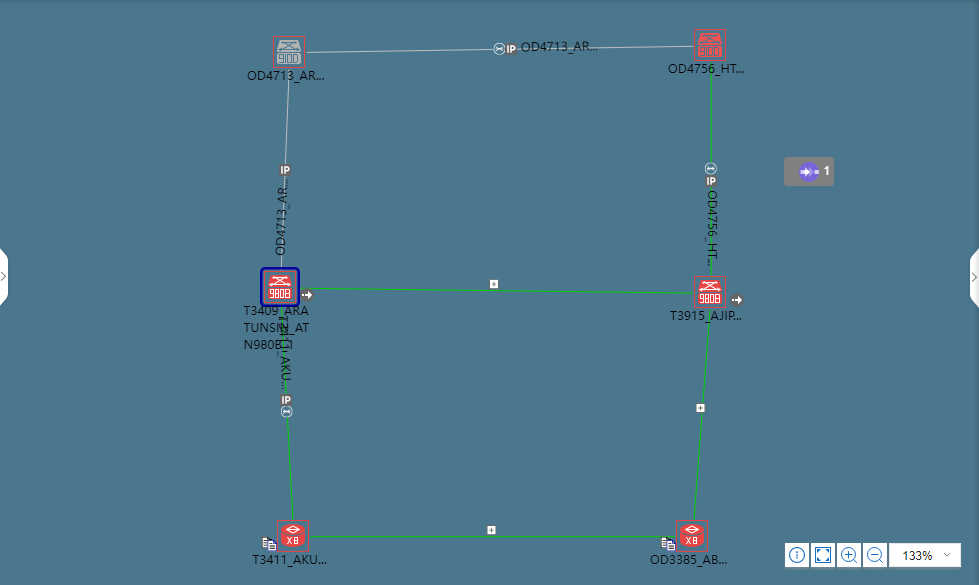ATN_Gray: (278, 39, 301, 68)
ATN_Red: (266, 271, 294, 306), (694, 277, 724, 306), (694, 32, 722, 62)
Link_Gray: (278, 69, 295, 251), (327, 45, 583, 52)
Link_Green: (327, 283, 693, 300), (694, 308, 717, 479), (278, 308, 294, 517)
Router_Red: (676, 522, 705, 549), (278, 522, 306, 549)
